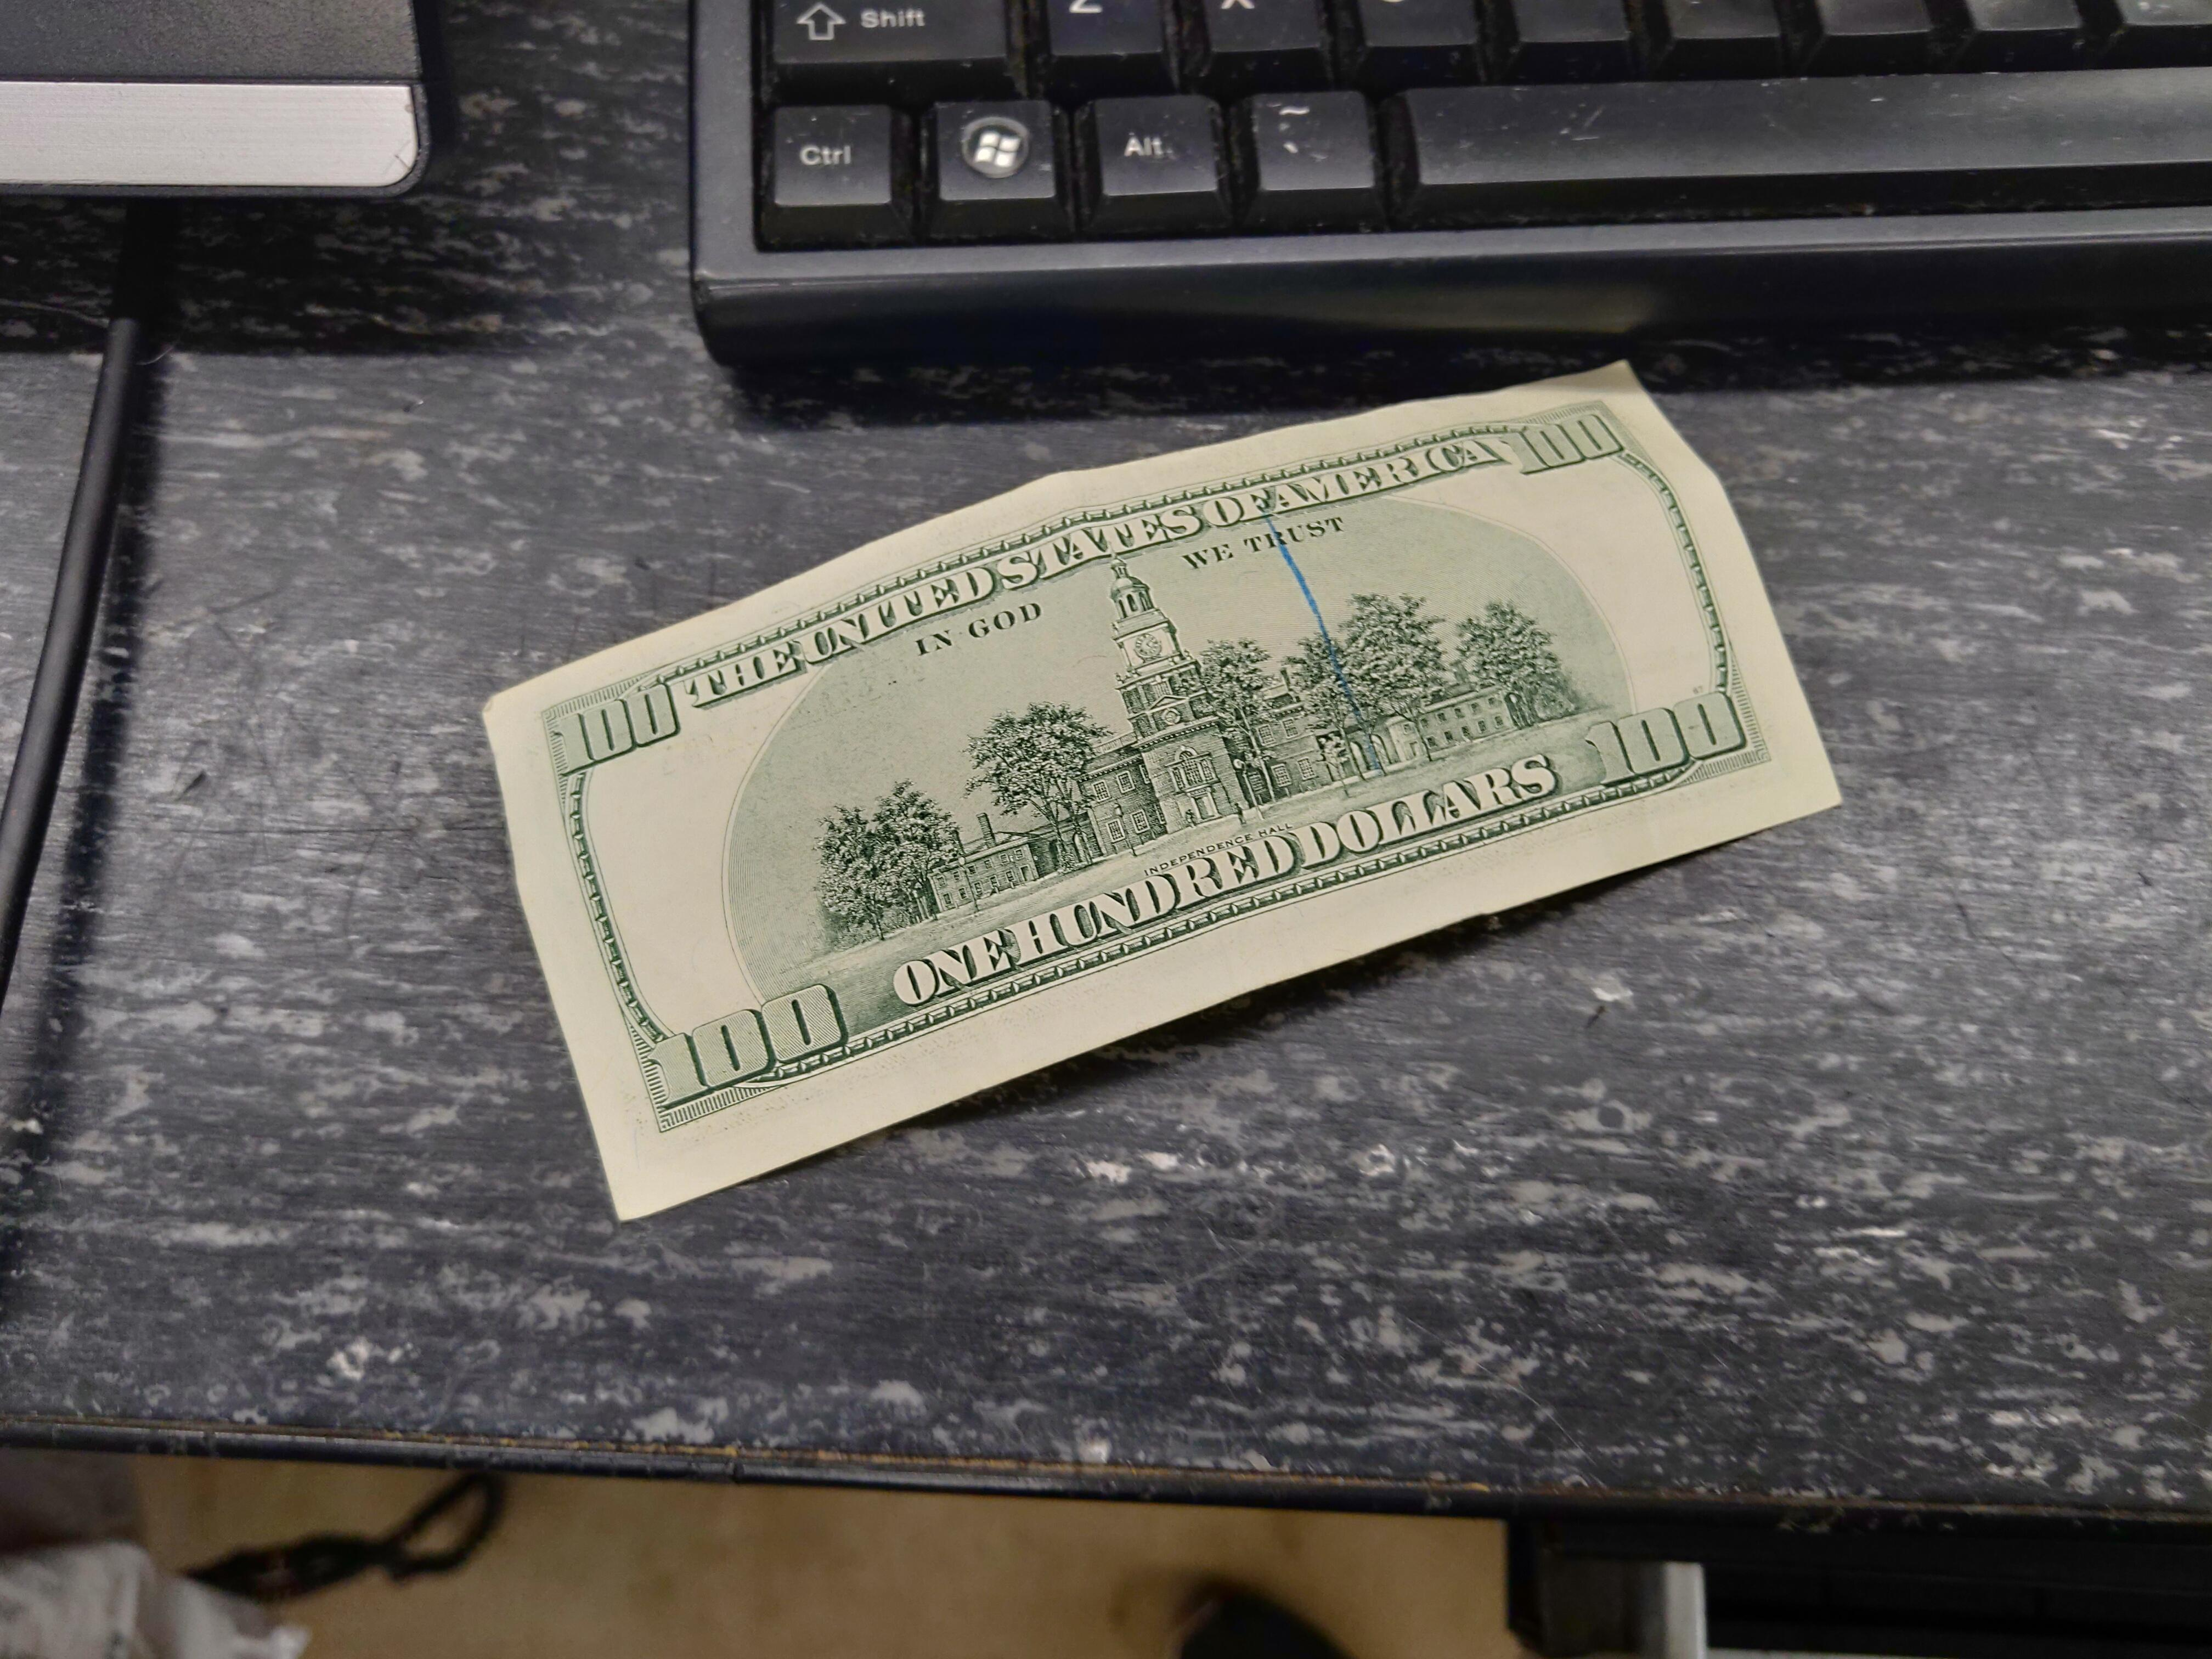HundredBill: (474, 354, 1846, 1230)
